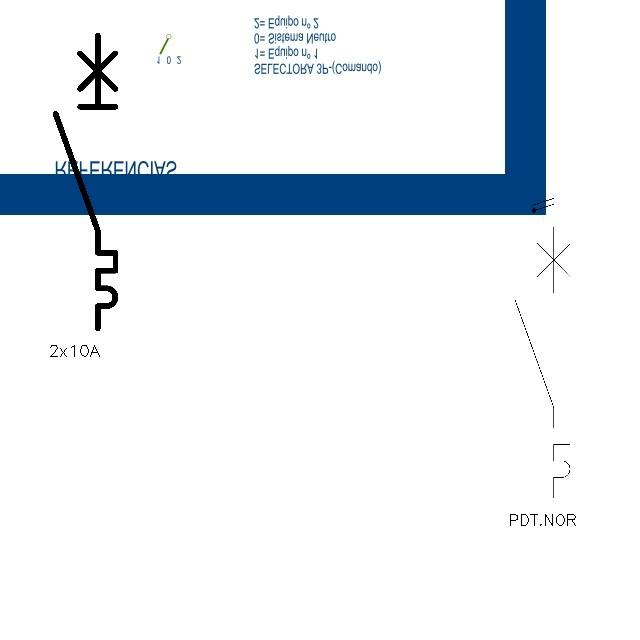interruptor_termomagnetico: (48, 28, 123, 336), (508, 220, 577, 505)
